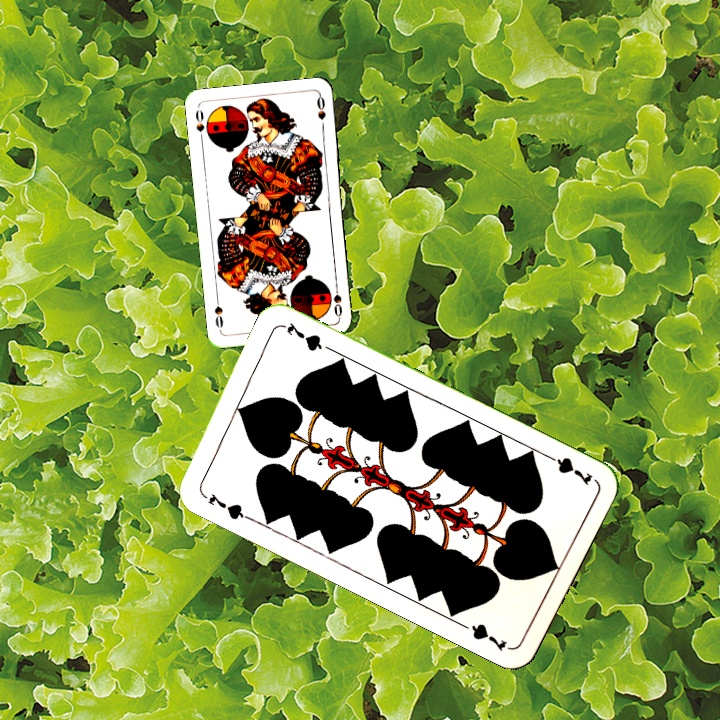G7: (540, 450, 595, 489), (197, 487, 252, 523)
SO: (329, 280, 345, 320), (191, 104, 207, 144)
